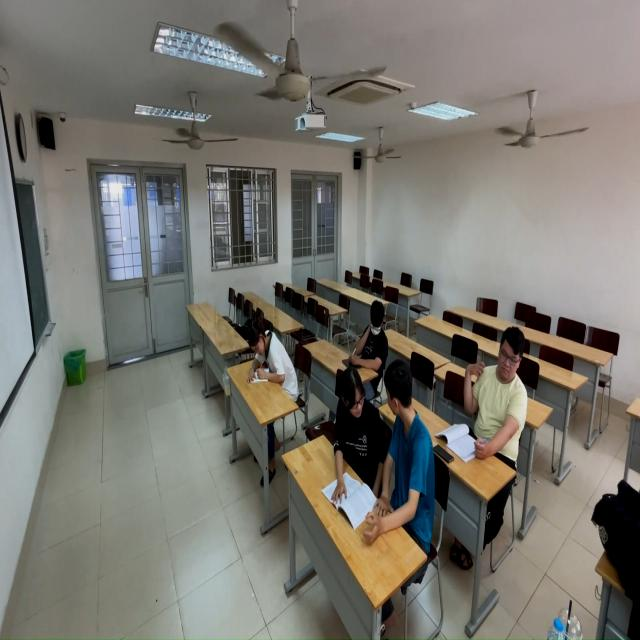read: (359, 354, 433, 554), (444, 315, 528, 472), (319, 355, 375, 489), (242, 316, 302, 403), (342, 299, 395, 374)
